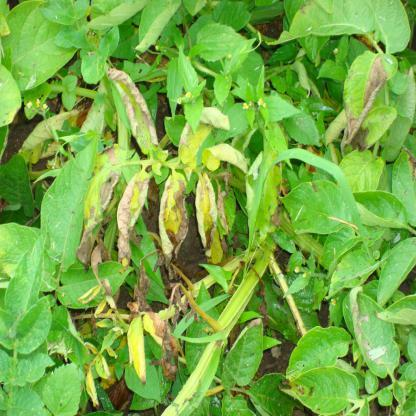Potato leaf: (101, 61, 168, 169), (112, 167, 150, 267), (82, 172, 118, 271), (156, 167, 191, 268), (194, 168, 230, 266)
